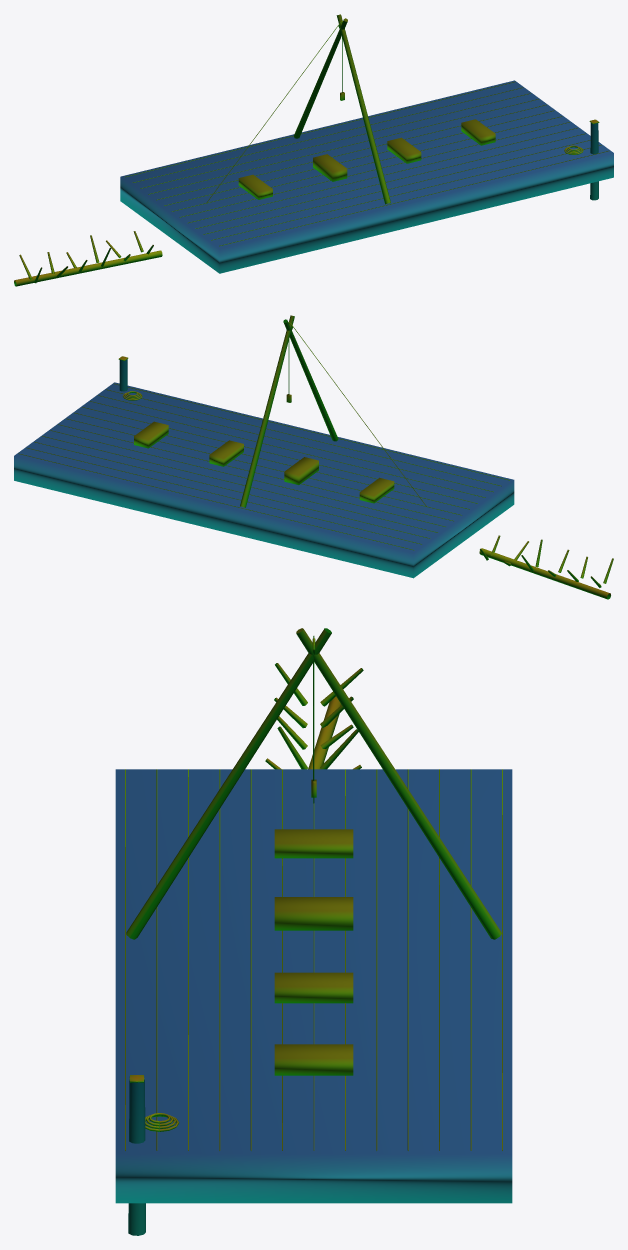
File: hm_drydock_berth_first.glb
3 views of the same model, one above another, from view 1: azimuth 30°, elevation 25°; view 2: azimuth 150°, elevation 25°; view 3: azimuth 270°, elevation 25° (orthographic). The views are drawn at different scales.
Parts seen in each view (by area): view 1: hm_drydock_berth_first; view 2: hm_drydock_berth_first; view 3: hm_drydock_berth_first.
Part boxes in pixels (bbox=[...]): hm_drydock_berth_first: bbox=[14, 14, 613, 286]; hm_drydock_berth_first: bbox=[14, 315, 613, 599]; hm_drydock_berth_first: bbox=[115, 628, 512, 1235].
Size of what is drawn, in the model's own units: 21.99 by 7.74 by 6.95.
